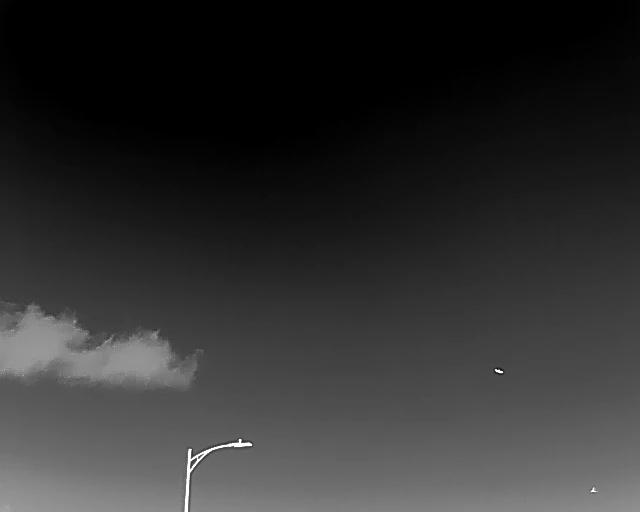fpv-drone: (493, 367, 503, 374)
